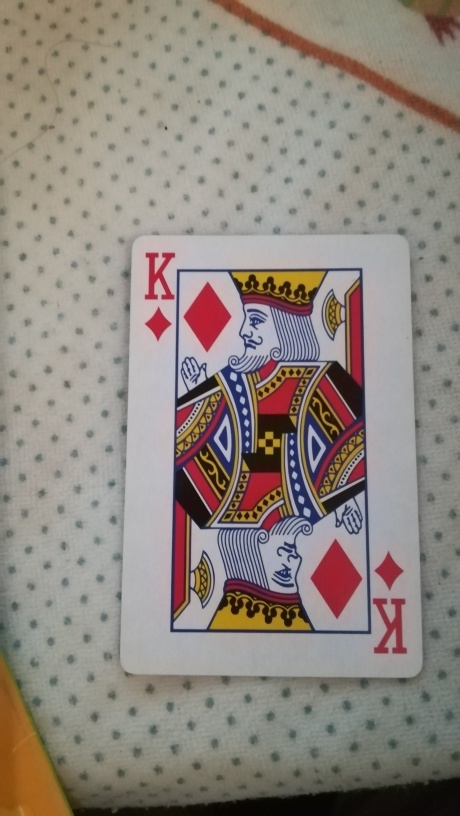fk k: (120, 232, 427, 679)
